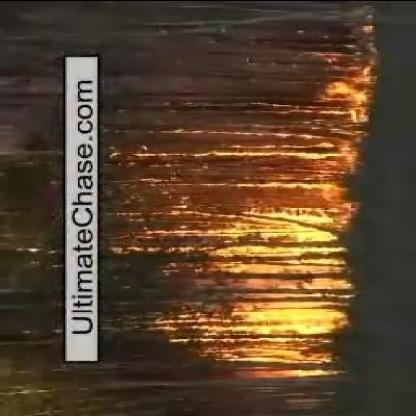foggia-v2-map80-epoch100 - v1 4323: (244, 301, 342, 332), (274, 210, 336, 240)
